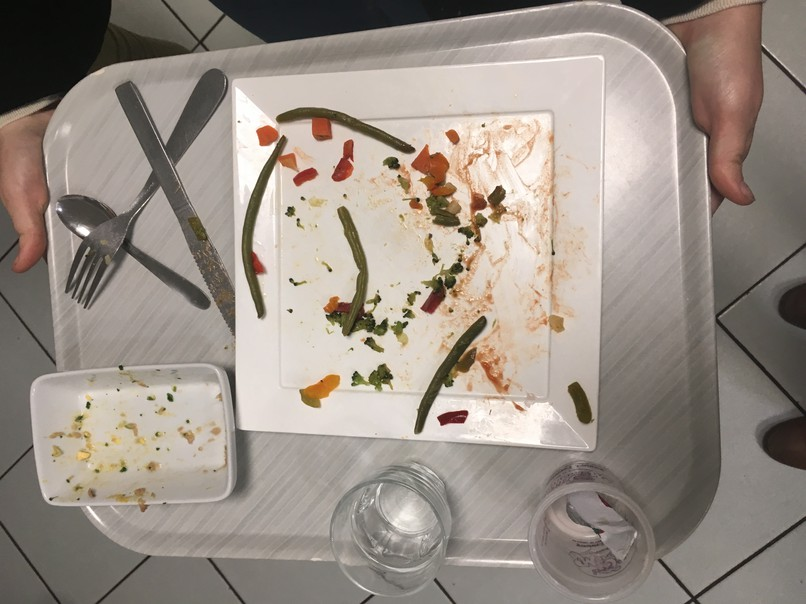cup: (317, 457, 468, 602)
cutlery: (38, 75, 241, 328)
orga: (405, 146, 503, 306), (405, 319, 499, 426), (332, 207, 376, 334), (302, 370, 343, 411)
trash: (537, 461, 660, 604)
